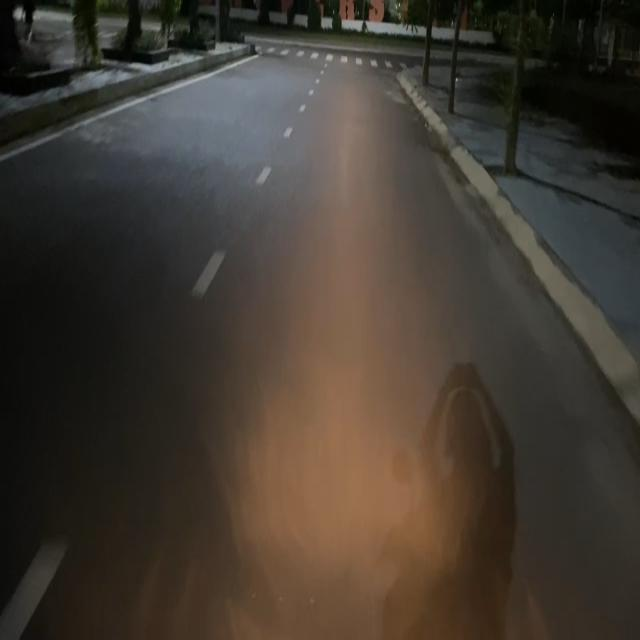walk-crossing: (252, 42, 402, 72)
